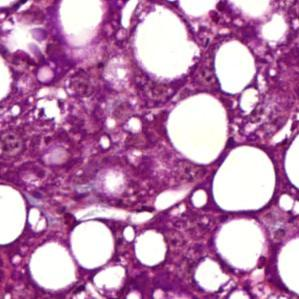steatosis: (214, 142, 276, 214), (167, 96, 229, 164), (30, 239, 78, 292), (68, 221, 118, 268), (214, 41, 259, 93), (136, 228, 165, 264)
